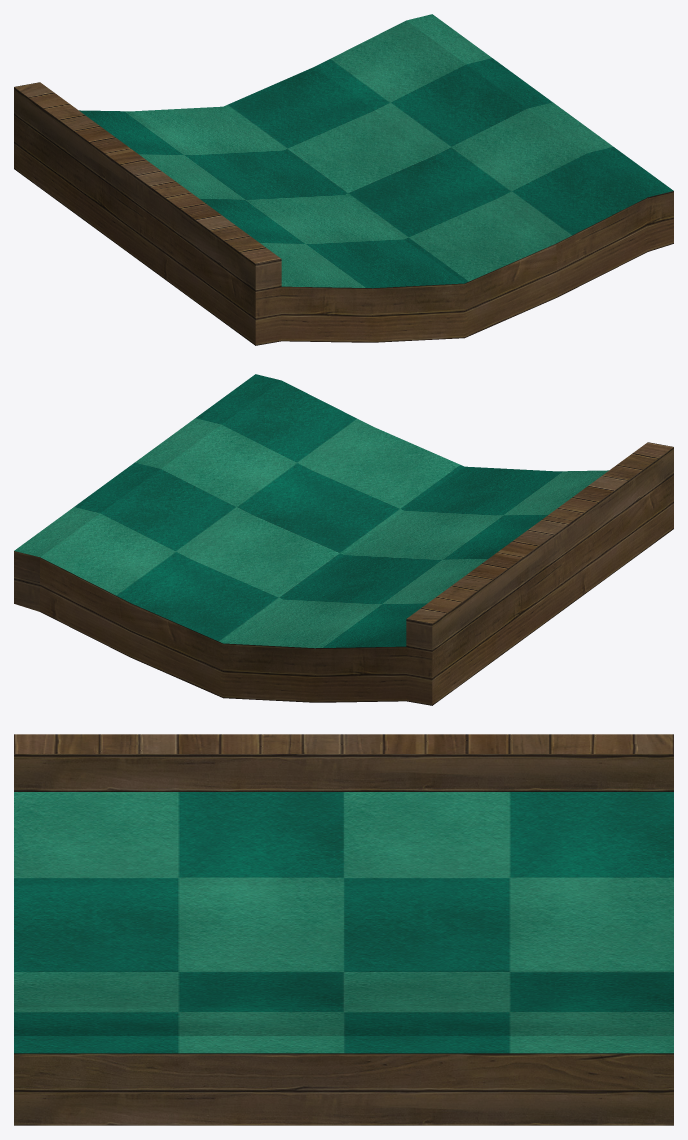
Rendered from Part3_dpath.gltf.
The picture shows the model from 3 angles, top to bottom: view 1: azimuth 30°, elevation 25°; view 2: azimuth 150°, elevation 25°; view 3: azimuth 270°, elevation 25°; orthographic projection. The views are drawn at different scales.
Parts seen in each view (by area): view 1: Part3_dpath_glb; view 2: Part3_dpath_glb; view 3: Part3_dpath_glb.
Boxes of the visible parts, x1,y1,x2,y2 form: Part3_dpath_glb: [14, 14, 673, 345]; Part3_dpath_glb: [14, 374, 673, 705]; Part3_dpath_glb: [14, 734, 673, 1125].
Size of what is drawn, in the model's own units: 4 by 1.15 by 4.
2 materials, 2 textured.
